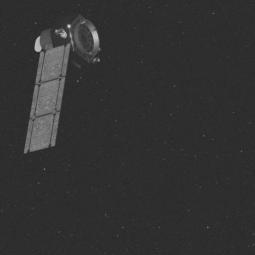earth_observation_sat_1: (35, 10, 100, 85)
